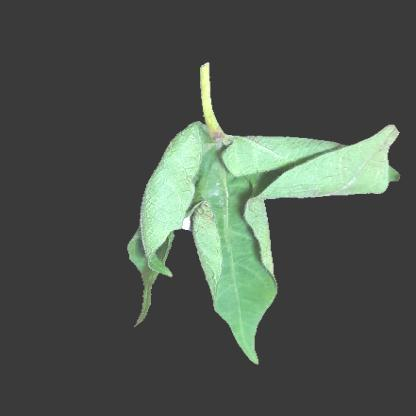curl_stage2: (164, 155, 265, 233), (264, 143, 368, 197), (200, 235, 270, 290), (181, 132, 222, 177), (142, 204, 166, 258)
healthy: (217, 295, 264, 323)
